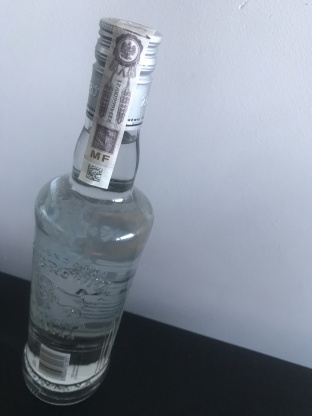nakretka: (83, 10, 163, 135)
